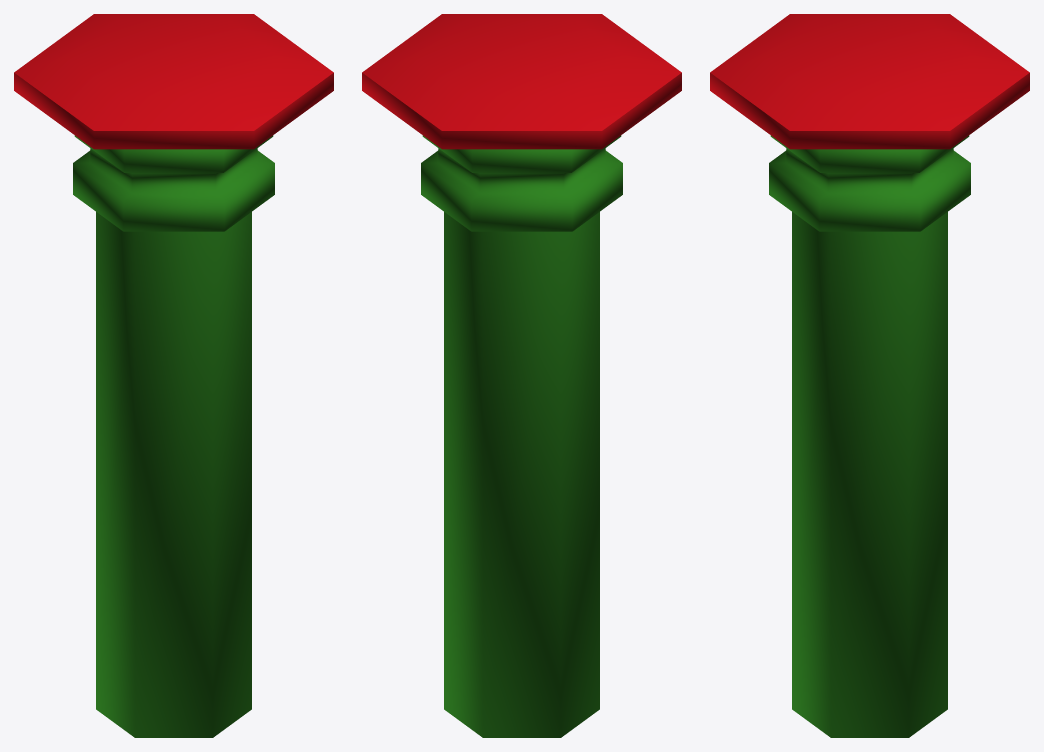
File: button.dae
The picture shows the model from 3 angles, left to right: view 1: azimuth 30°, elevation 25°; view 2: azimuth 150°, elevation 25°; view 3: azimuth 270°, elevation 25°; orthographic projection.
Parts seen in each view (by area): view 1: ButtonStand, button; view 2: ButtonStand, button; view 3: ButtonStand, button.
Part boxes in pixels (bbox=[...]): ButtonStand: bbox=[73, 135, 274, 737]; button: bbox=[14, 14, 333, 149]; ButtonStand: bbox=[421, 135, 622, 737]; button: bbox=[362, 14, 681, 149]; ButtonStand: bbox=[769, 135, 970, 737]; button: bbox=[710, 14, 1029, 149].
Size of the model in its own units: 1.78 by 2.05 by 4.61.
